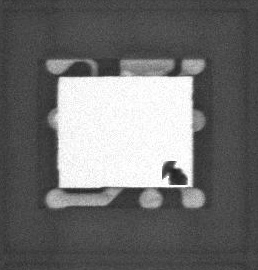DIE_INK: (155, 168, 179, 193)
